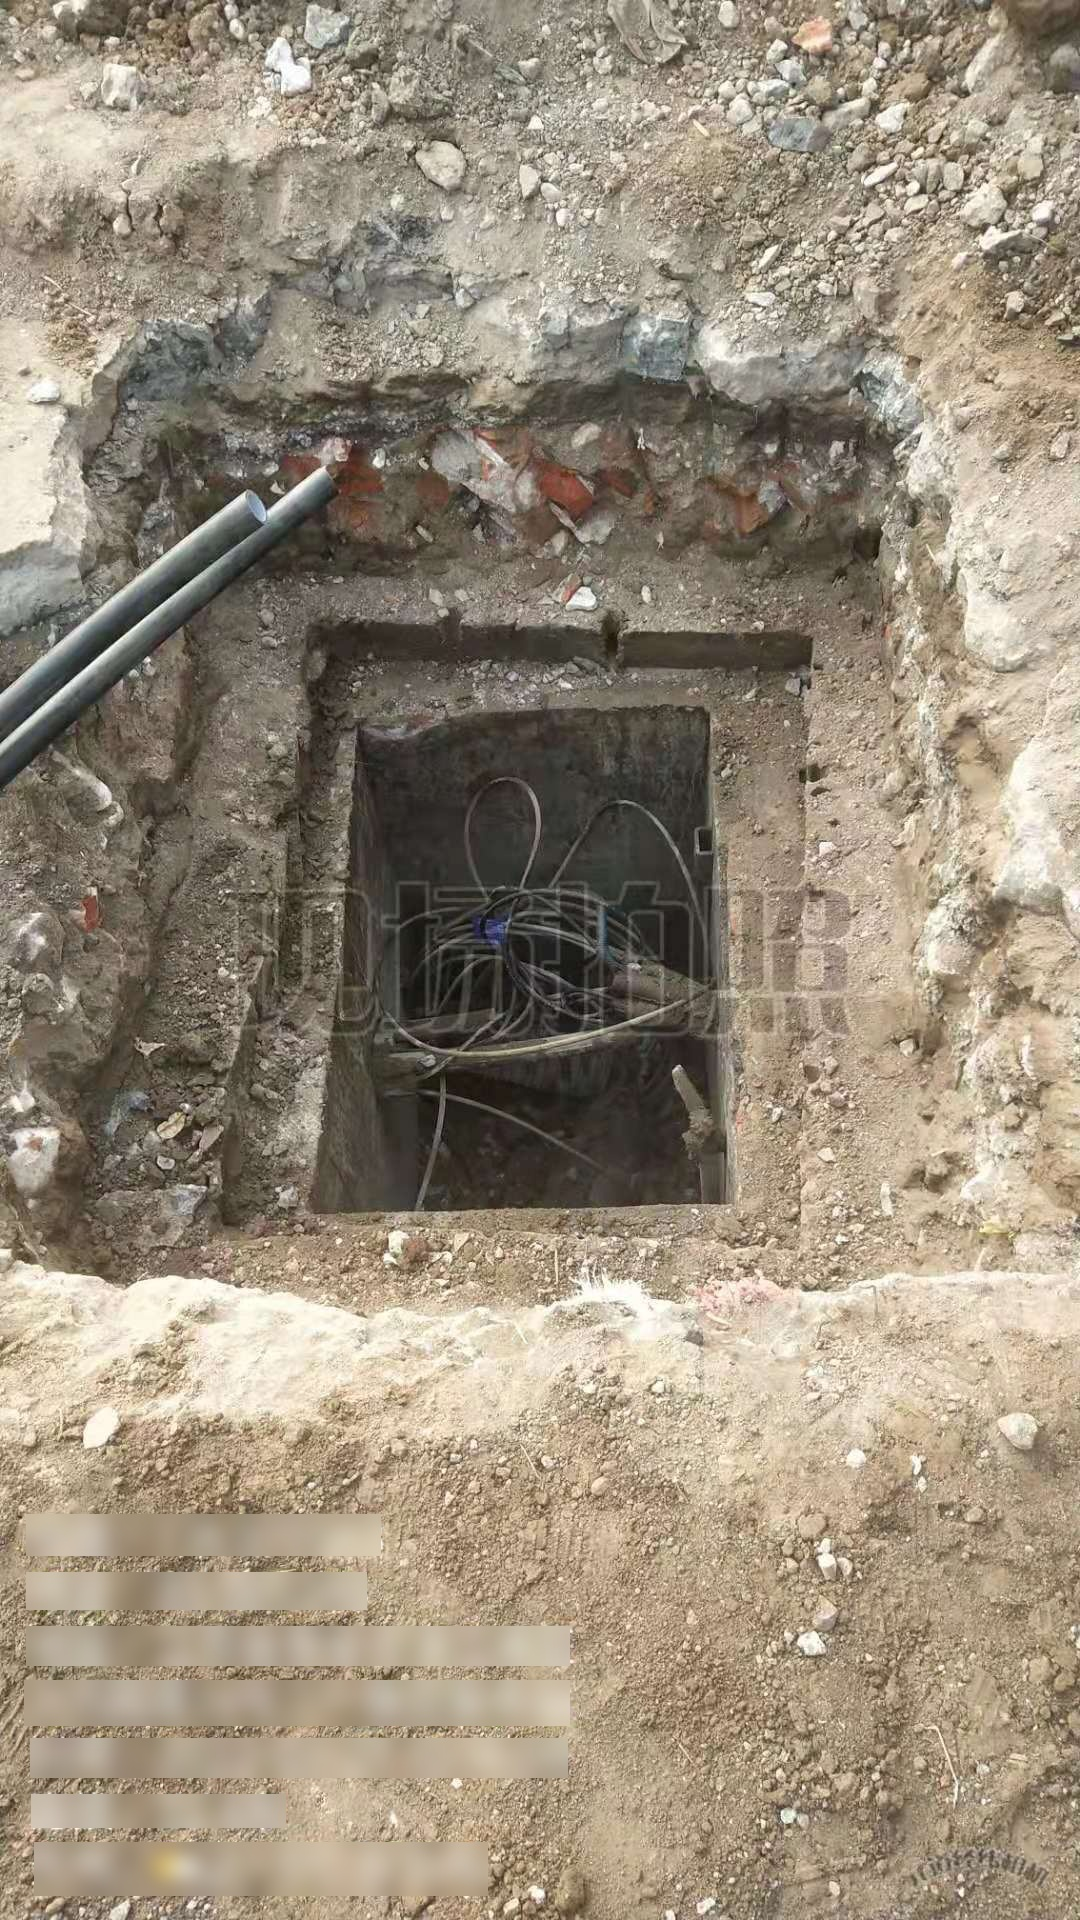lose: (302, 642, 738, 1218)
